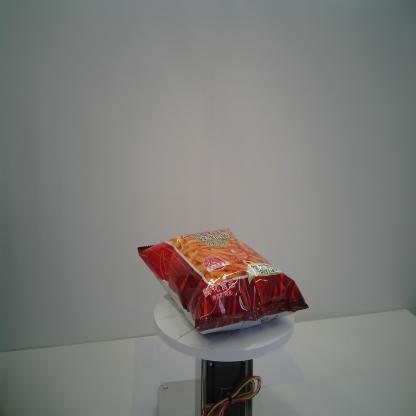Puffed Food: (137, 228, 309, 335)
